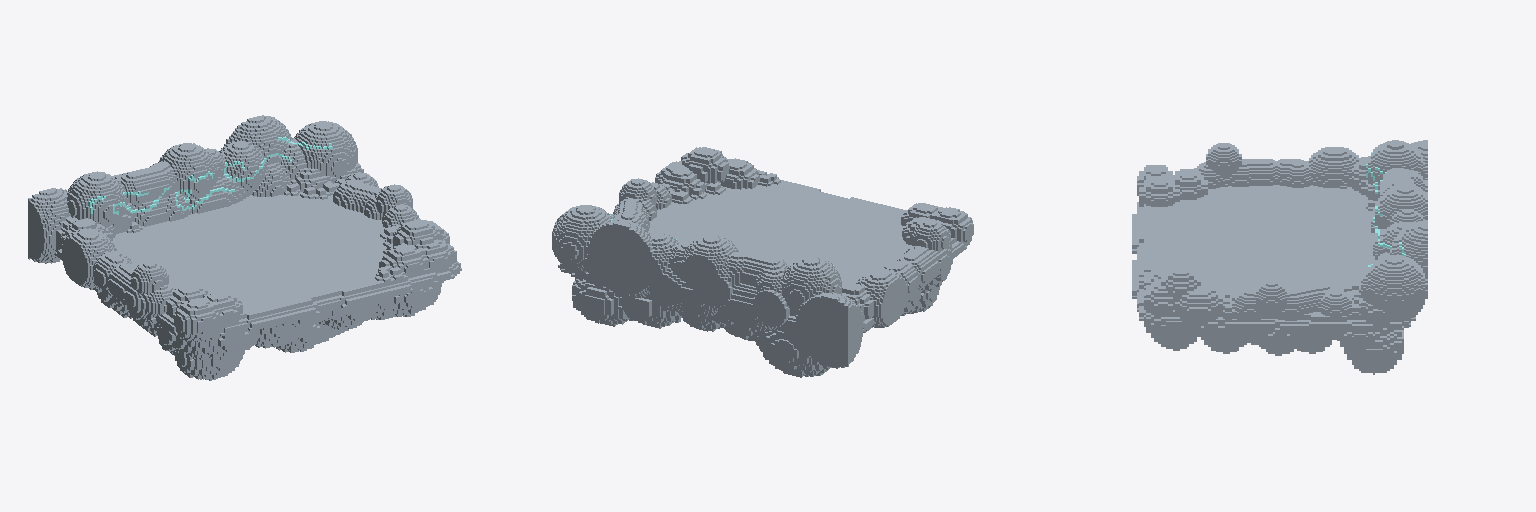
The picture shows the model from 3 angles: view 1: azimuth 30°, elevation 25°; view 2: azimuth 150°, elevation 25°; view 3: azimuth 270°, elevation 25°; orthographic projection.
Parts seen in each view (by area): view 1: Model; view 2: Model; view 3: Model.
Part boxes in pixels (left/top/right/bottom): Model: left=28, top=115, right=461, bottom=380; Model: left=552, top=147, right=973, bottom=377; Model: left=1132, top=140, right=1427, bottom=374.
Bounding box in the file's own units: 32 × 13.32 × 26.63.
1 materials, 1 textured.